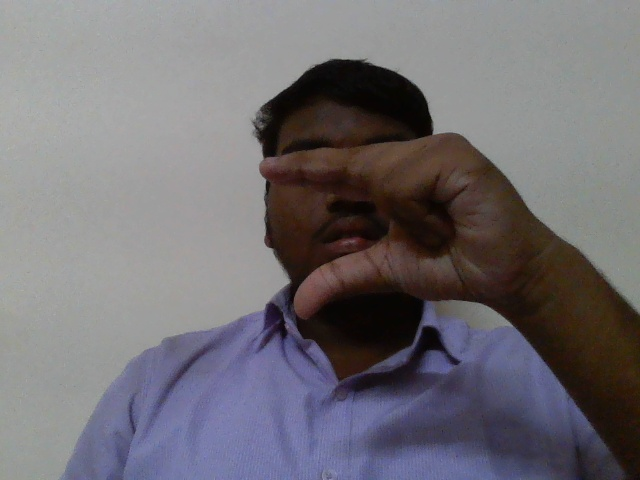No: (240, 133, 580, 331)
